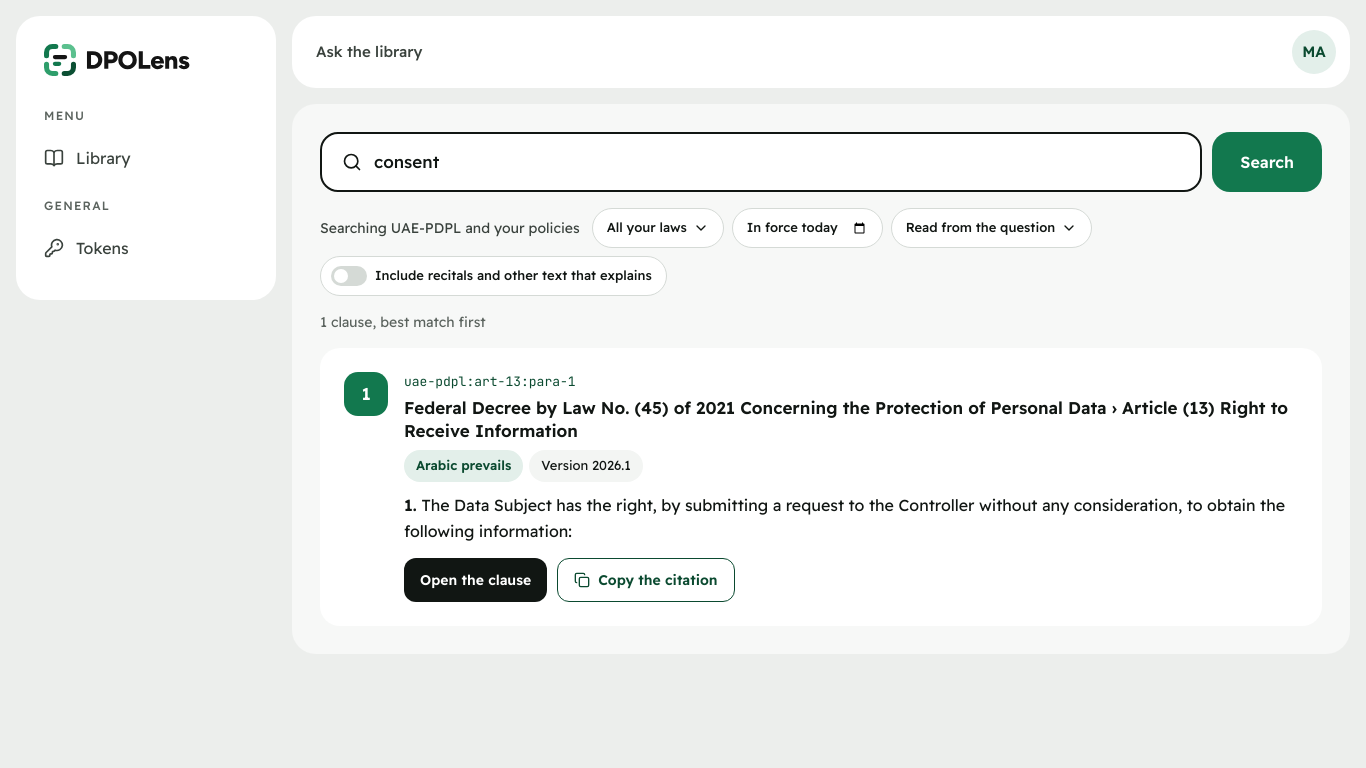
Test: search results › offers the organisation's own laws to narrow to, and no other
The image size is (1366, 768).
expect the text "uae-pdpl:art-13:para-1" is shown: met, box [404, 373, 576, 390]
Click the button "All your laws".
click(658, 228)  # box [592, 208, 724, 248]
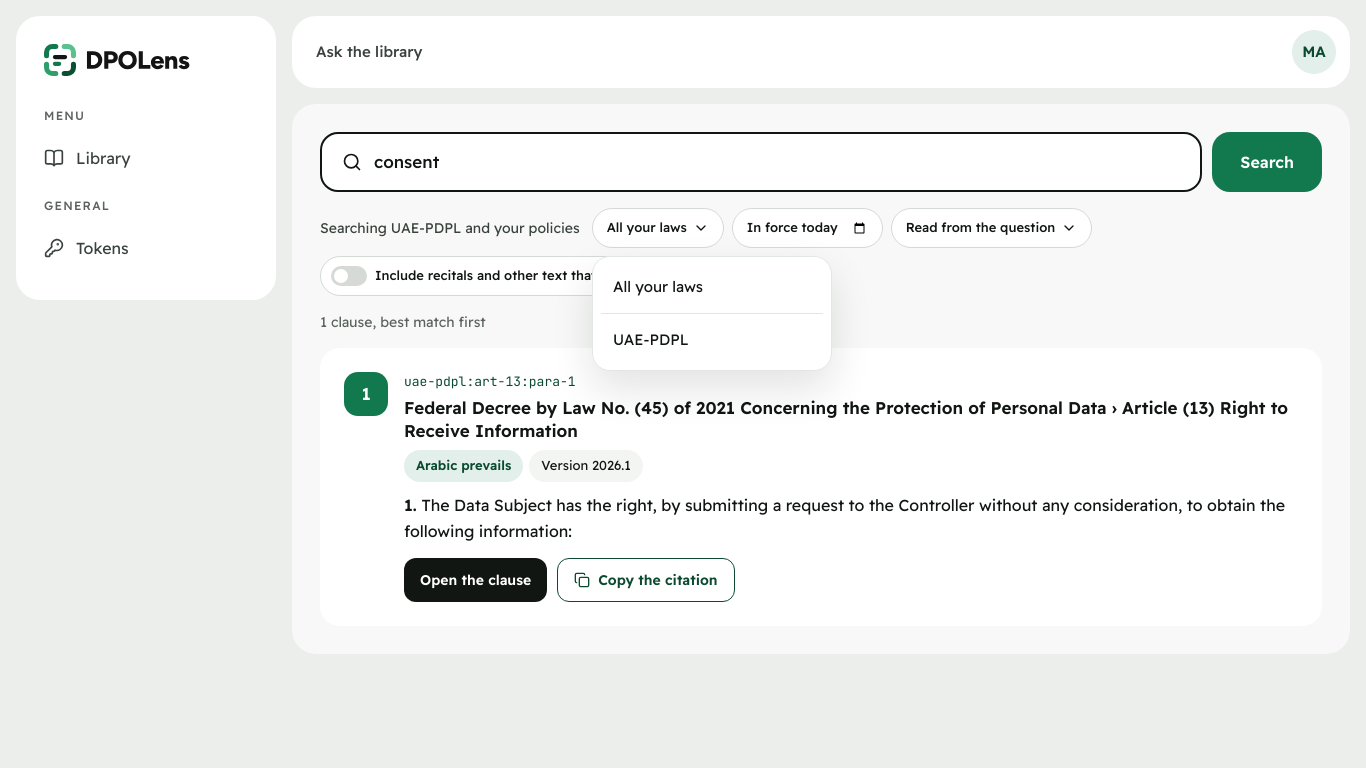
expect the menu items read "All your laws", "UAE-PDPL", in this order: met, box [613, 277, 703, 296]; [613, 330, 689, 349]
